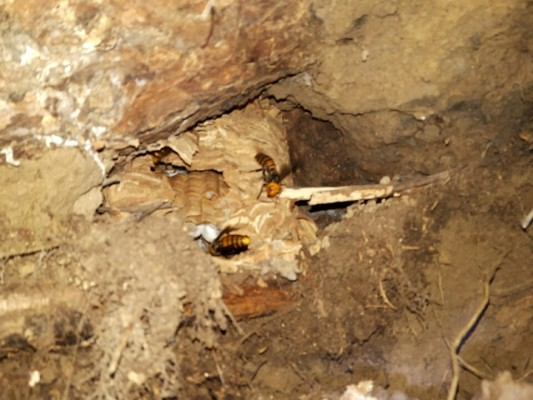asian_giant_hornet: (245, 147, 291, 201), (192, 224, 253, 256)
